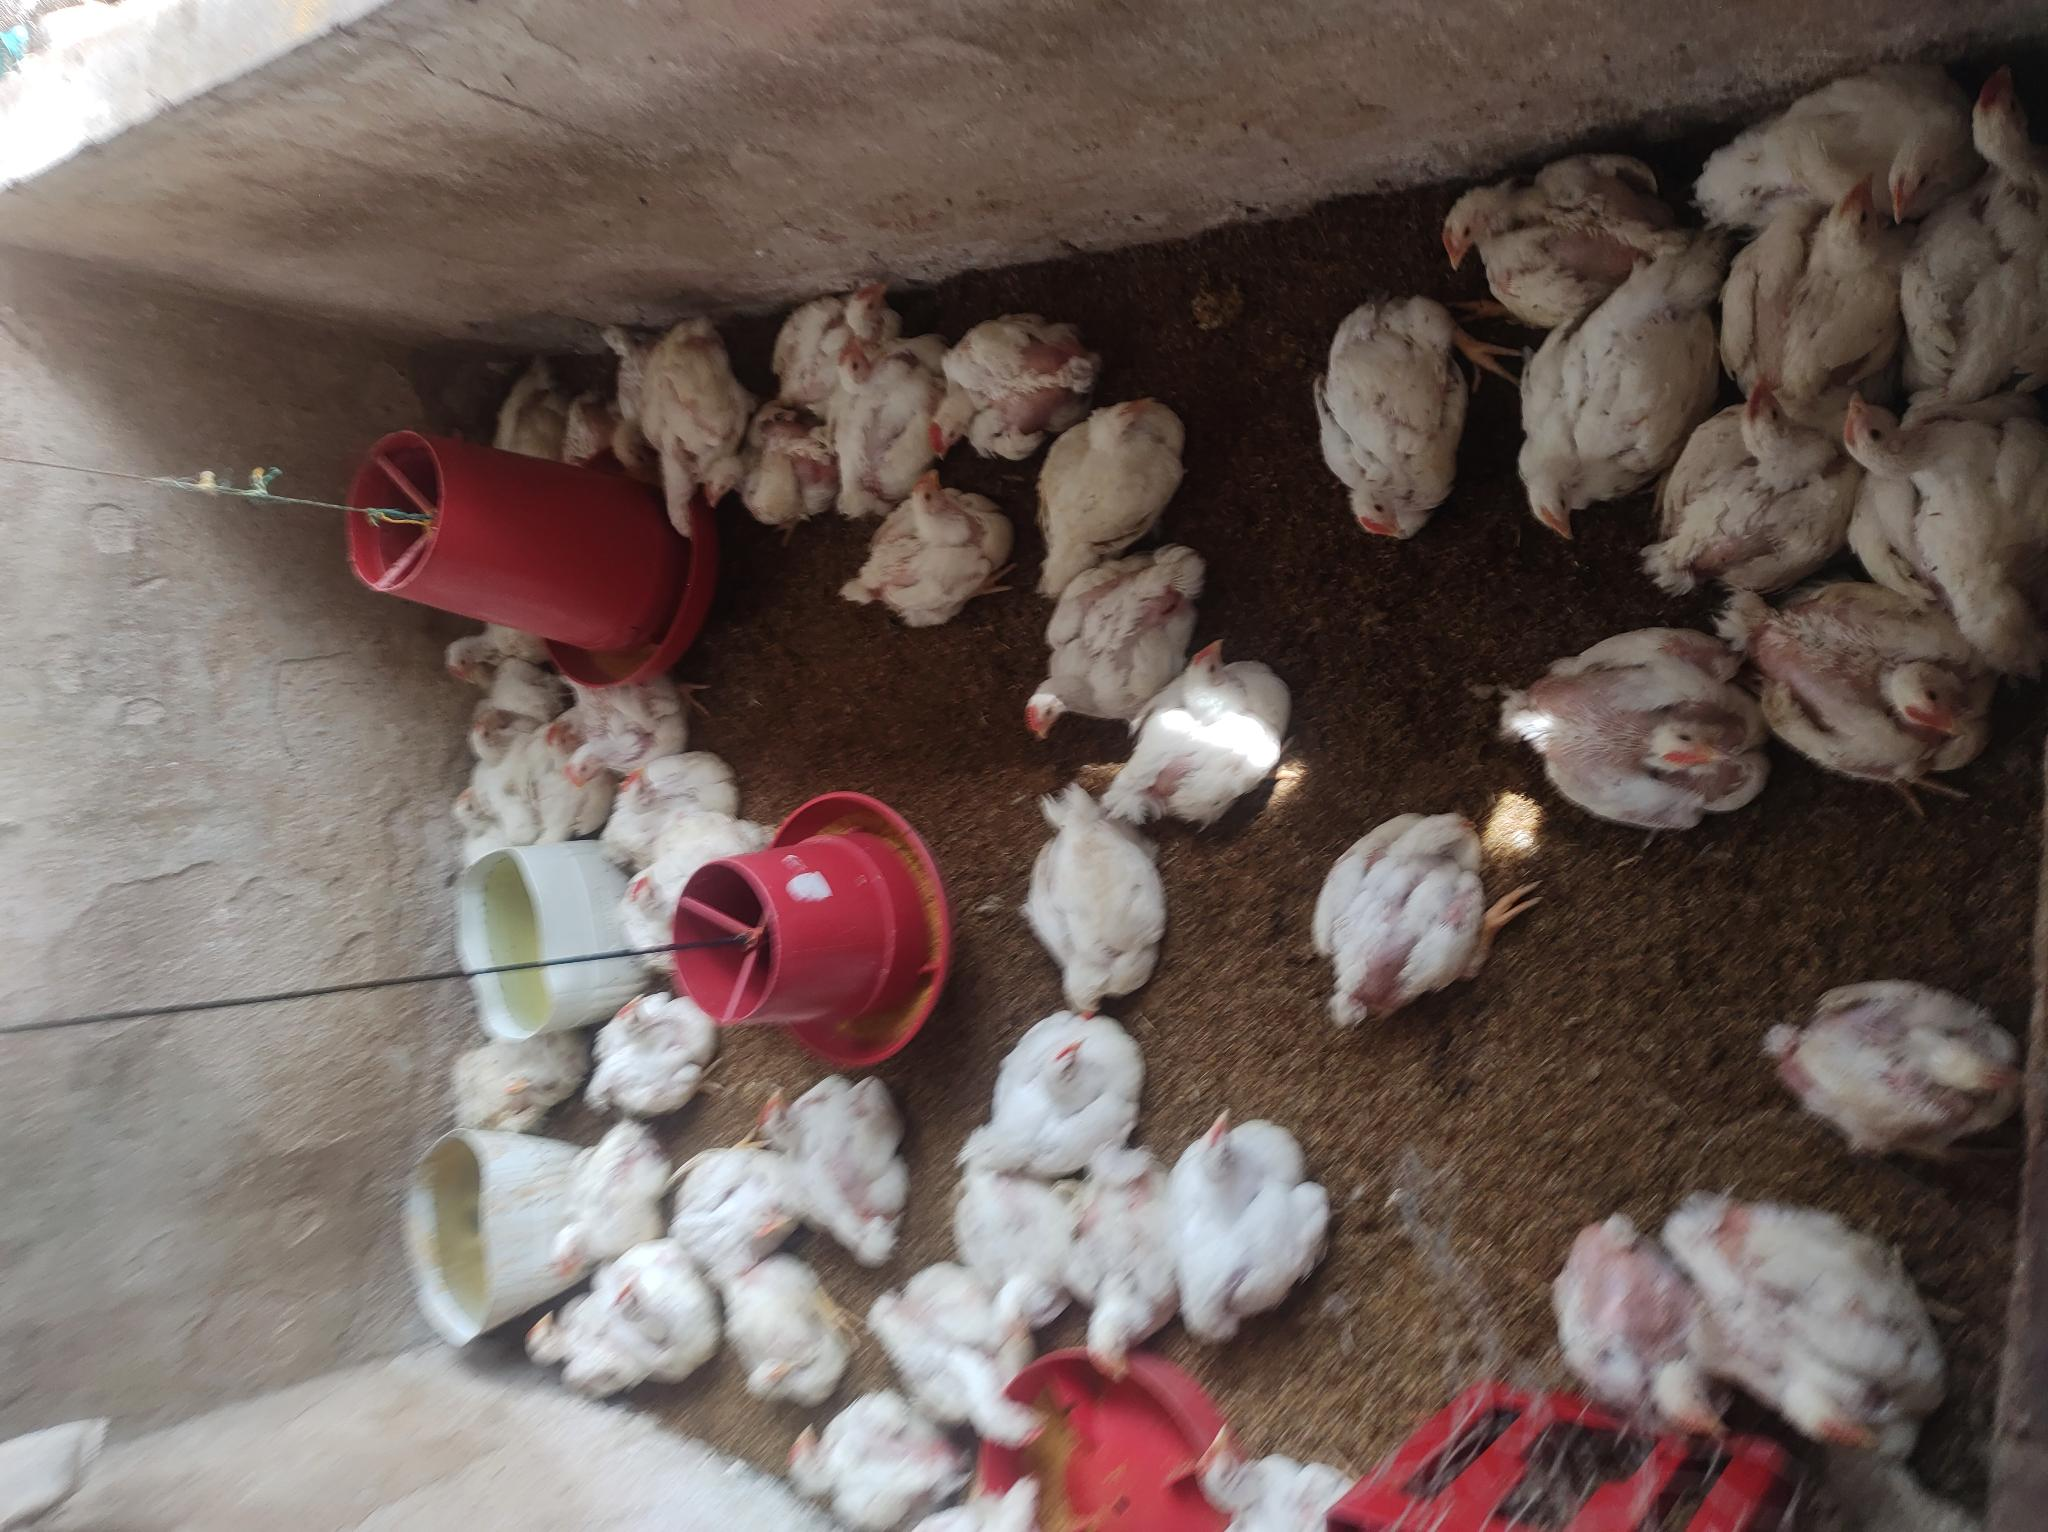Pollos: (1668, 1176, 1976, 1461), (1514, 227, 1758, 526), (1487, 623, 1765, 859), (1840, 388, 2048, 689), (1779, 945, 2014, 1204), (1736, 583, 1988, 814), (1162, 1109, 1393, 1357), (1298, 805, 1507, 1052), (1897, 68, 2048, 385), (1663, 378, 1857, 620), (1329, 294, 1498, 558), (1700, 39, 1971, 203), (1544, 1199, 1723, 1439), (1007, 541, 1213, 740), (853, 1260, 1081, 1435), (1734, 164, 1897, 397), (1010, 792, 1174, 1015), (957, 1001, 1145, 1186), (1125, 636, 1306, 817), (1441, 132, 1635, 298), (841, 463, 1022, 634), (631, 290, 755, 534), (1020, 393, 1207, 550), (759, 1075, 906, 1270), (920, 307, 1102, 462), (607, 821, 800, 961), (923, 1183, 1091, 1344), (1075, 1159, 1195, 1381), (763, 1389, 948, 1514), (1171, 1418, 1372, 1532), (816, 335, 936, 505), (418, 1020, 581, 1146), (584, 988, 735, 1122), (767, 261, 914, 388), (705, 1283, 843, 1408), (603, 1229, 695, 1415), (507, 1270, 611, 1415), (570, 674, 685, 797), (658, 1162, 806, 1257), (709, 433, 837, 537), (486, 327, 578, 470), (520, 729, 621, 858), (615, 748, 732, 843), (430, 612, 560, 692), (883, 1482, 1059, 1532), (439, 776, 537, 858), (595, 307, 661, 417), (436, 711, 541, 769)
